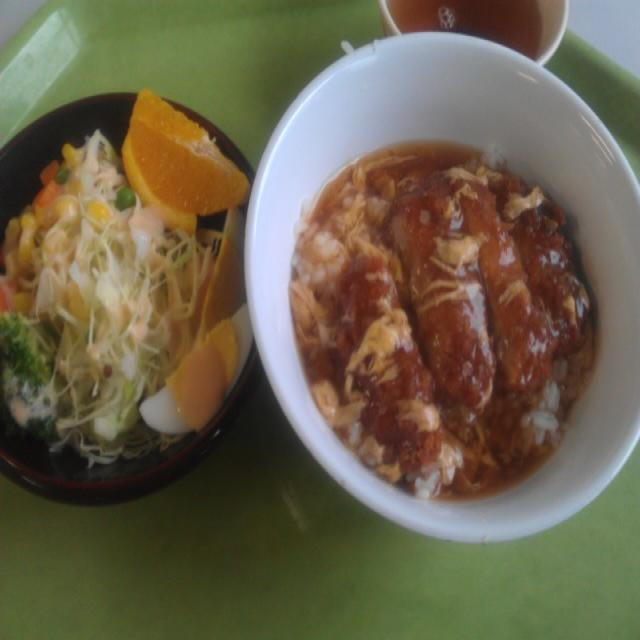Green Salad: (5, 142, 226, 473)
